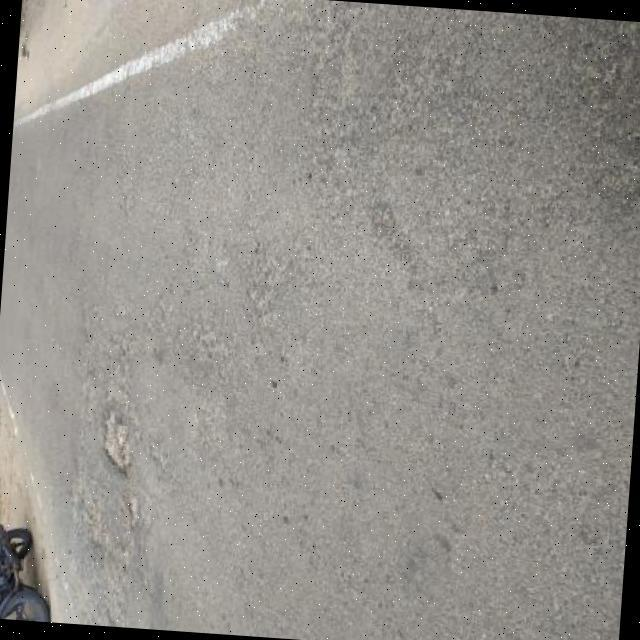Pothole: (100, 407, 137, 476), (129, 497, 138, 523)
